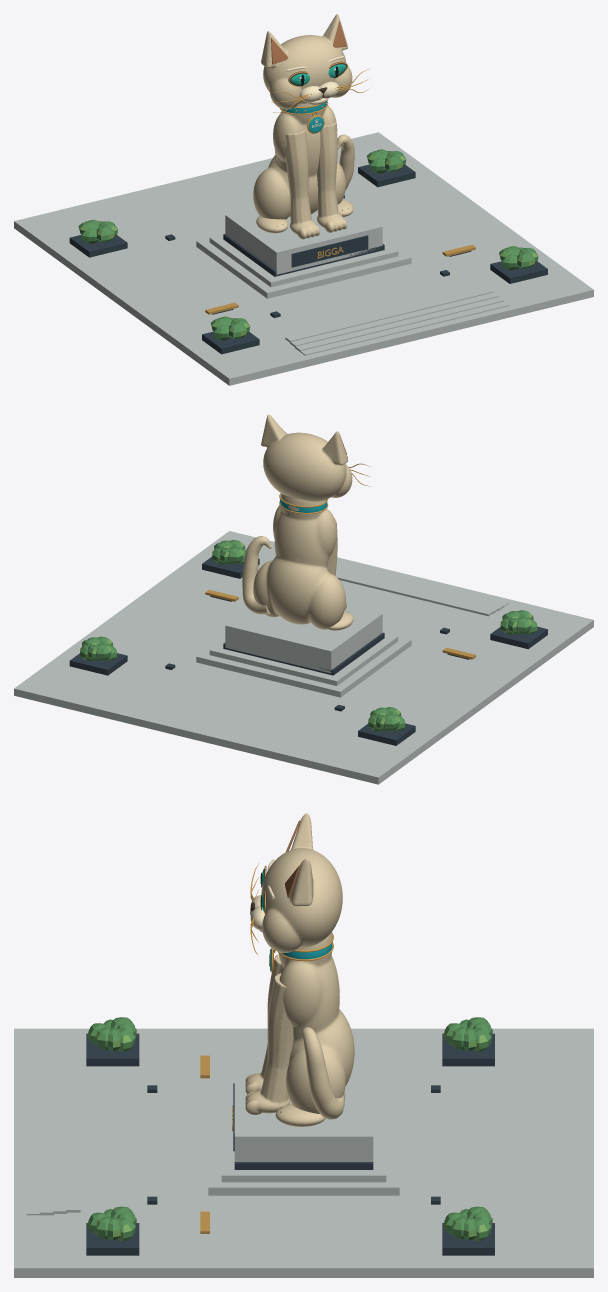
File: Biggas_City_039_v02_Landmark.glb
The picture shows the model from 3 angles, top to bottom: view 1: azimuth 30°, elevation 25°; view 2: azimuth 150°, elevation 25°; view 3: azimuth 270°, elevation 25°; orthographic projection. The views are drawn at different scales.
Visible parts, largest first — view 1: Bigga civic plaza, Bigga statue pedestal, CAT_Head and ears sculpt, CAT_Seated body sculpt, Bigga monument stepped plinth, CAT_Front leg and articulated paw -1, Bigga monument stepped plinth.001, CAT_Front leg and articulated paw 1, Bigga plaza approach step.003, Bigga plaza approach step.002, Bigga plaza approach step, Bigga plaza approach step.001 (+11 smaller); view 2: Bigga civic plaza, CAT_Seated body sculpt, Bigga statue pedestal, CAT_Head and ears sculpt, Bigga monument stepped plinth, Bigga monument stepped plinth.001, Bigga plaza approach step.003, CAT_Upright curled tail, F039_Shrub.1442, Bigga plaza approach step, F039_Shrub.1444, F039_Shrub.1445 (+8 smaller); view 3: Bigga civic plaza, Bigga statue pedestal, CAT_Seated body sculpt, CAT_Head and ears sculpt, Bigga monument stepped plinth, Bigga monument stepped plinth.001, CAT_Front leg and articulated paw 1, Bigga plaza approach step.003, Bigga plaza approach step.001, CAT_Upright curled tail, Bigga plaza approach step, Bigga plaza approach step.002 (+11 smaller).
Part boxes in pixels (x1,y1,x2,y2): Bigga civic plaza: (14,132,593,385); Bigga statue pedestal: (225,198,382,274); CAT_Head and ears sculpt: (261,14,352,109); CAT_Seated body sculpt: (253,103,345,219); Bigga monument stepped plinth: (196,237,411,298); CAT_Front leg and articulated paw -1: (285,129,319,239); Bigga monument stepped plinth.001: (209,234,398,287); CAT_Front leg and articulated paw 1: (317,122,347,232); Bigga plaza approach step.003: (285,287,493,342); Bigga plaza approach step.002: (290,292,498,347); Bigga plaza approach step: (300,301,508,355); Bigga plaza approach step.001: (295,297,503,351); Bigga civic plaza: (14,531,593,784); CAT_Seated body sculpt: (253,493,345,629); Bigga statue pedestal: (225,605,382,673); CAT_Head and ears sculpt: (261,414,352,501); Bigga monument stepped plinth: (196,636,411,697); Bigga monument stepped plinth.001: (209,633,398,685); Bigga plaza approach step.003: (335,572,493,616); CAT_Upright curled tail: (242,536,270,614); F039_Shrub.1442: (500,610,537,634); Bigga plaza approach step: (336,561,508,607); F039_Shrub.1444: (368,707,405,731); F039_Shrub.1445: (80,636,116,661); Bigga civic plaza: (14,1028,593,1277); Bigga statue pedestal: (234,1067,373,1161); CAT_Seated body sculpt: (278,932,354,1113); CAT_Head and ears sculpt: (261,813,342,952); Bigga monument stepped plinth: (208,1093,399,1195); Bigga monument stepped plinth.001: (221,1092,386,1182); CAT_Front leg and articulated paw 1: (245,973,293,1114); Bigga plaza approach step.003: (66,1076,80,1212); Bigga plaza approach step.001: (39,1079,54,1215); CAT_Upright curled tail: (301,1027,345,1119); Bigga plaza approach step: (26,1080,40,1215); Bigga plaza approach step.002: (53,1077,67,1213).
Bounding box in the file's own units: 86 × 53.94 × 88.
